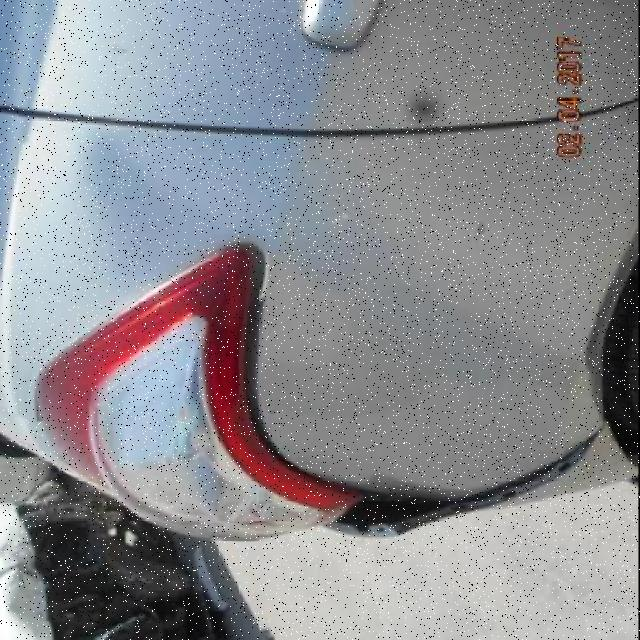damage: (327, 429, 605, 539), (404, 91, 444, 125), (466, 217, 494, 239)
